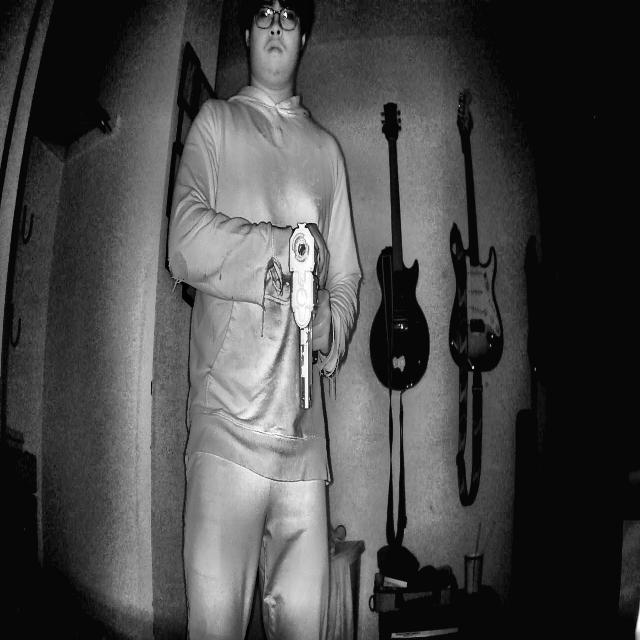Nerf_Blaster: (282, 154, 326, 438)
